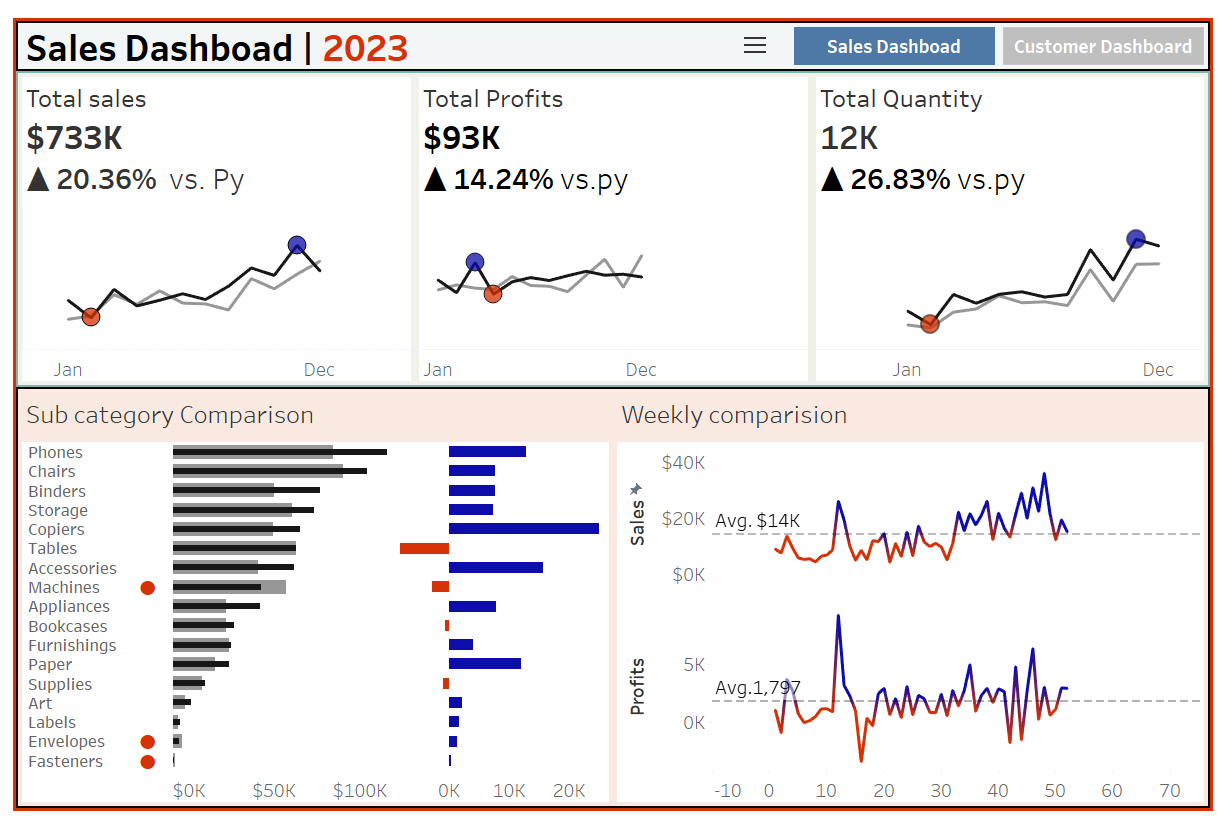

What the dashboard file says about the page in this screenshot:
{"tool":"tableau","page":{"name":"SalesDashboard","canvas":[1200,800],"ordinal":0},"visuals":[{"type":"text","box":[5,5,772,46]},{"type":"dashboard-object","box":[777,5,209,46]},{"type":"dashboard-object","box":[986,5,209,46]},{"type":"dashboard-object","box":[730,15,24,24]},{"type":"parameter","param":"[Parameters].[Parameter 1]","box":[594,28,156,35]},{"type":"worksheet","title":"Sales","mark":"Automatic","rows":["Calculation_1097752468729688068"],"cols":["Order Date"],"box":[5,55,397,312]},{"type":"worksheet","title":"Profits","mark":"Automatic","rows":["Calculation_2189030953748877319"],"cols":["Order Date"],"box":[402,55,397,312]},{"type":"worksheet","title":"Quantity","mark":"Automatic","rows":["Calculation_877357562321424386"],"cols":["Order Date"],"box":[799,55,396,312]},{"type":"legend","title":"Sales","param":"[federated.0ru6dbj0r2vx0e1ejlp55135sgc2].[usr:Calculation_1097752468729688068:qk","box":[594,63,156,35]},{"type":"legend","title":"Profits","param":"[federated.0ru6dbj0r2vx0e1ejlp55135sgc2].[:Measure Names]","box":[594,98,156,35]},{"type":"legend","title":"Profits","param":"[federated.0ru6dbj0r2vx0e1ejlp55135sgc2].[usr:Calculation_2189030953748877319:qk","box":[594,133,156,35]},{"type":"legend","title":"Quantity","param":"[federated.0ru6dbj0r2vx0e1ejlp55135sgc2].[usr:Calculation_877357562321424386:qk]","box":[594,168,156,35]},{"type":"legend","title":"Sub category Comparison","param":"[federated.0ru6dbj0r2vx0e1ejlp55135sgc2].[sum:Calculation_2189030953744330752:qk","box":[594,203,156,35]},{"type":"legend","title":"Weekly comparision","param":"[federated.0ru6dbj0r2vx0e1ejlp55135sgc2].[usr:Calculation_877357562348224519:nk]","box":[594,238,156,35]},{"type":"worksheet","title":"Sub category Comparison","mark":"Bar","rows":["Sub-Category","Calculation_877357562333798406"],"cols":["Calculation_1097752468704223233","Calculation_1097752468702617600","Calculation_2189030953744330752"],"box":[5,371,595,423]},{"type":"worksheet","title":"Weekly comparision","mark":"Automatic","rows":["Calculation_1097752468702617600","Calculation_2189030953744330752"],"cols":["Order Date"],"box":[600,371,595,423]}]}

Visuals, with their boxes in screenshot pixels (x1, y1, x2, y2), scaled from the page's 1200x800 canvas onto the 1229x830 screenshot:
text: BBox(5, 5, 796, 53)
dashboard-object: BBox(796, 5, 1010, 53)
dashboard-object: BBox(1010, 5, 1224, 53)
dashboard-object: BBox(748, 16, 772, 40)
parameter: BBox(608, 29, 768, 65)
"Sales" worksheet: BBox(5, 57, 412, 381)
"Profits" worksheet: BBox(412, 57, 818, 381)
"Quantity" worksheet: BBox(818, 57, 1224, 381)
"Sales" legend: BBox(608, 65, 768, 102)
"Profits" legend: BBox(608, 102, 768, 138)
"Profits" legend: BBox(608, 138, 768, 174)
"Quantity" legend: BBox(608, 174, 768, 211)
"Sub category Comparison" legend: BBox(608, 211, 768, 247)
"Weekly comparision" legend: BBox(608, 247, 768, 283)
"Sub category Comparison" worksheet (Bar marks): BBox(5, 385, 614, 824)
"Weekly comparision" worksheet: BBox(614, 385, 1224, 824)
